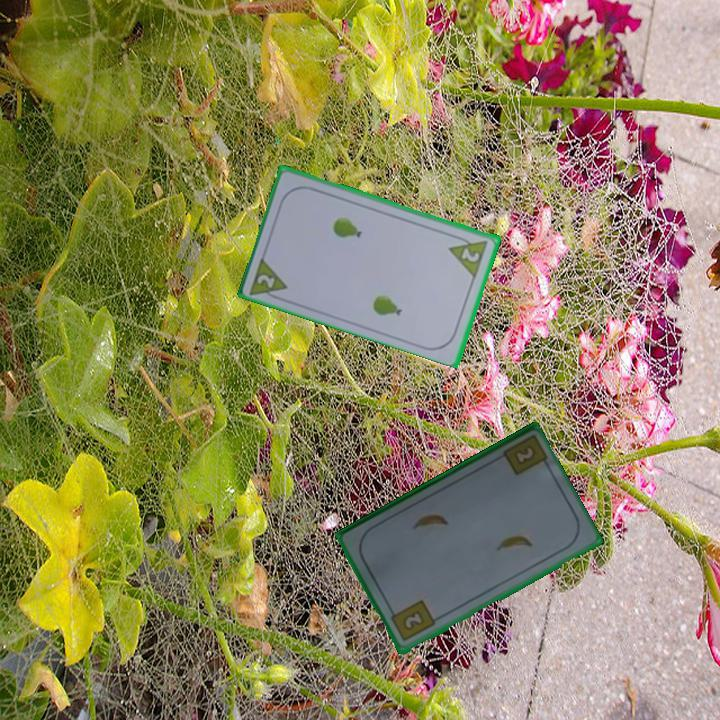2b: (387, 596, 438, 645), (510, 444, 536, 468)
2p: (246, 253, 291, 304), (458, 244, 483, 265)
